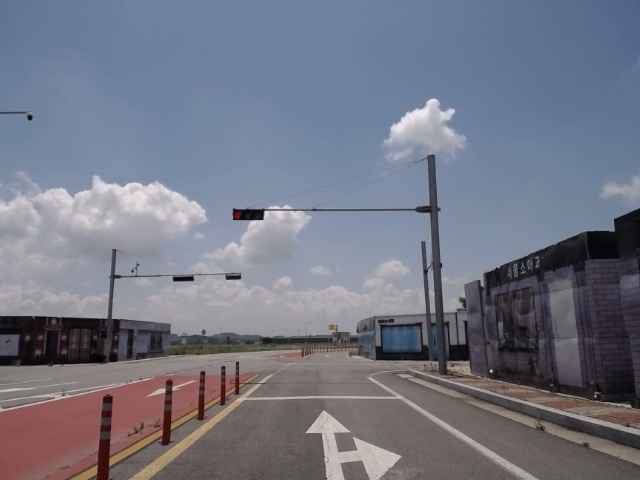red_3: (229, 207, 267, 220)
